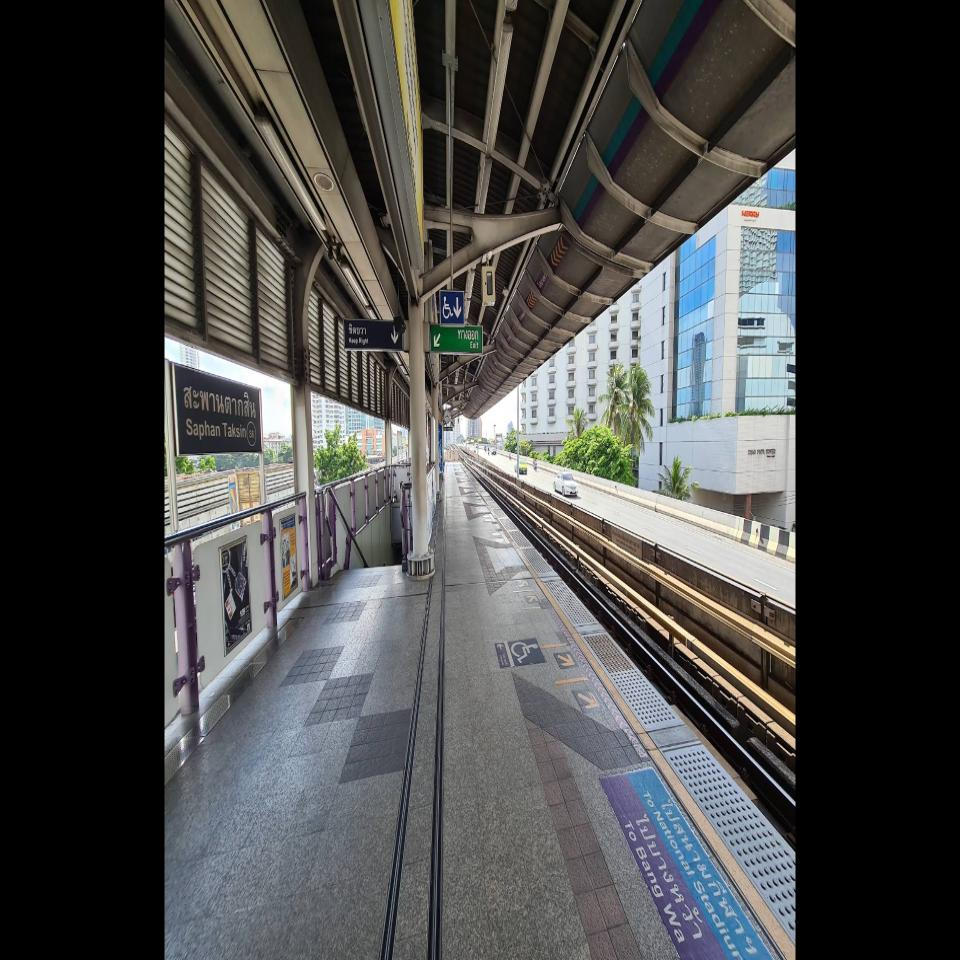signage: (170, 360, 263, 459)
